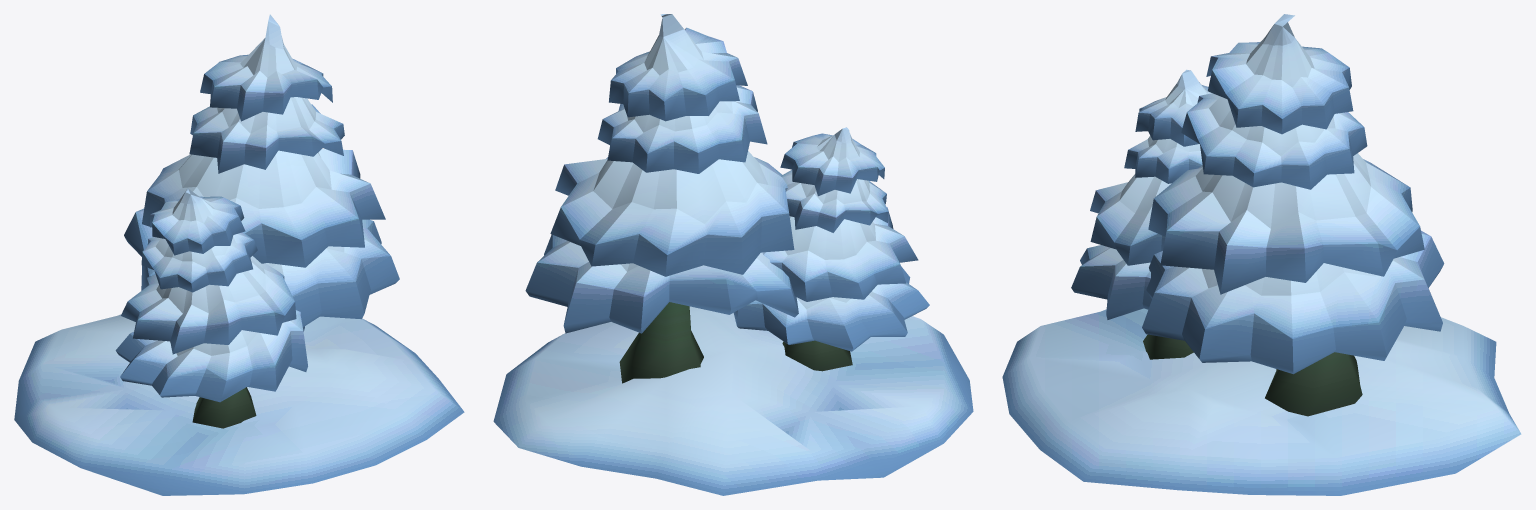
The model's file is TreeSnow.fbx.
3 views of the same model, side by side, from view 1: azimuth 30°, elevation 25°; view 2: azimuth 150°, elevation 25°; view 3: azimuth 270°, elevation 25° (orthographic). The views are drawn at different scales.
Parts seen in each view (by area): view 1: polySurface3589; view 2: polySurface3589; view 3: polySurface3589.
Part boxes in pixels (x1,y1,x2,y2): polySurface3589: (14,14,464,495); polySurface3589: (493,14,973,495); polySurface3589: (1002,14,1521,495).
Bounding box in the file's own units: 13.91 × 12.81 × 14.35.
